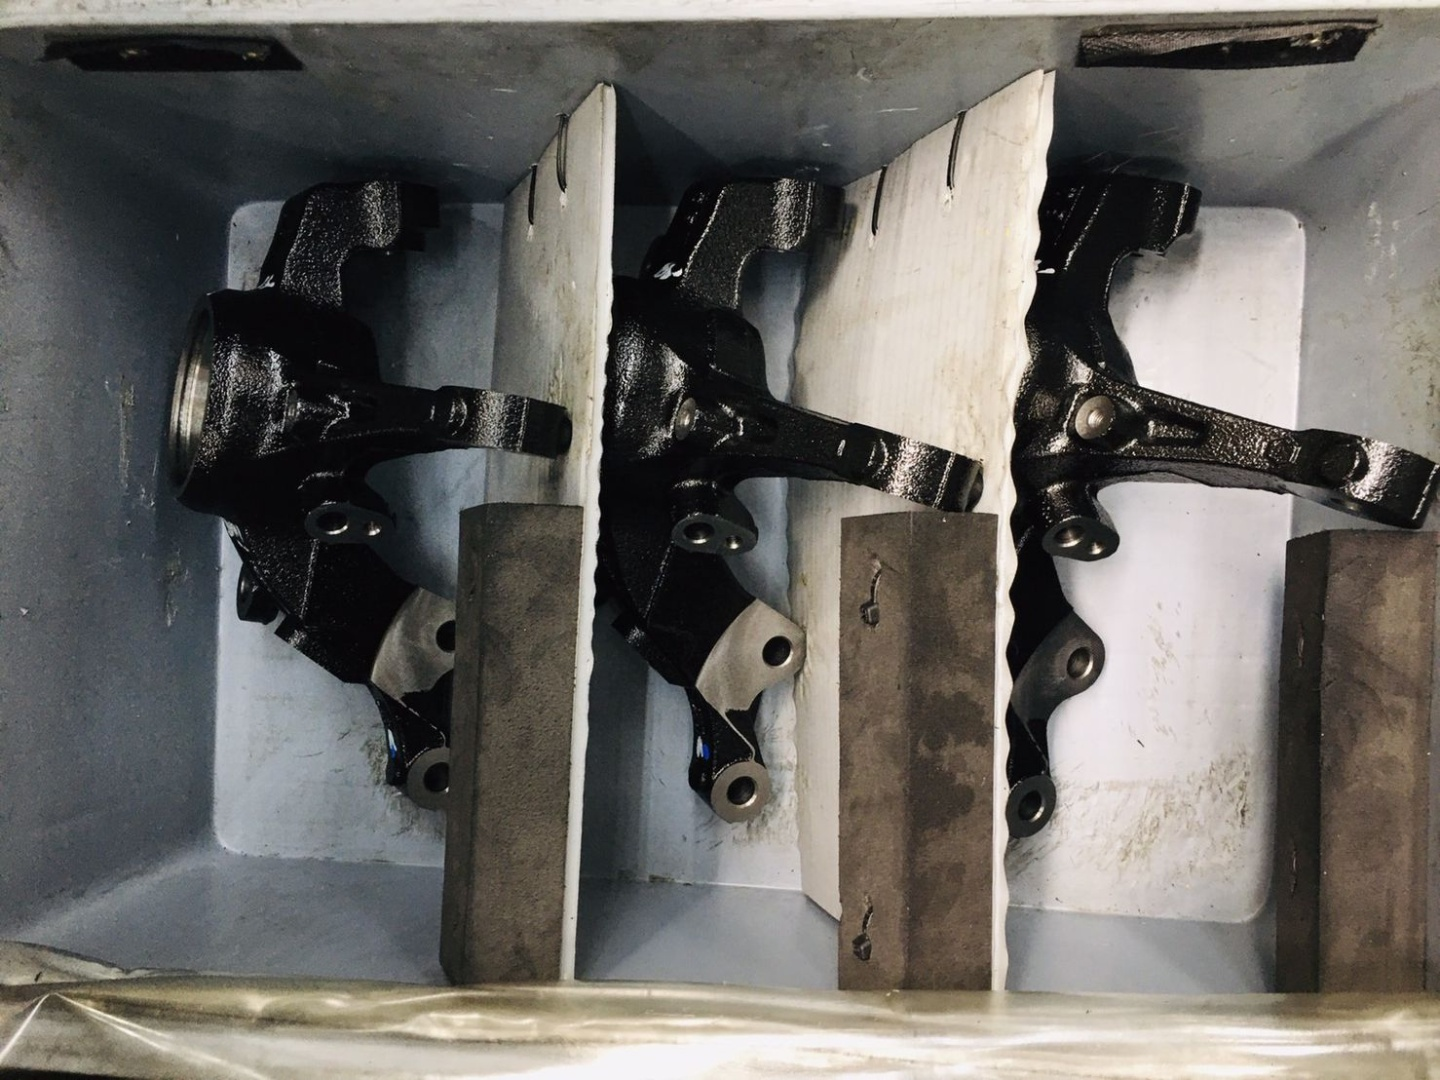abs-rh: (1003, 164, 1435, 850), (169, 170, 579, 824), (600, 164, 986, 832)
